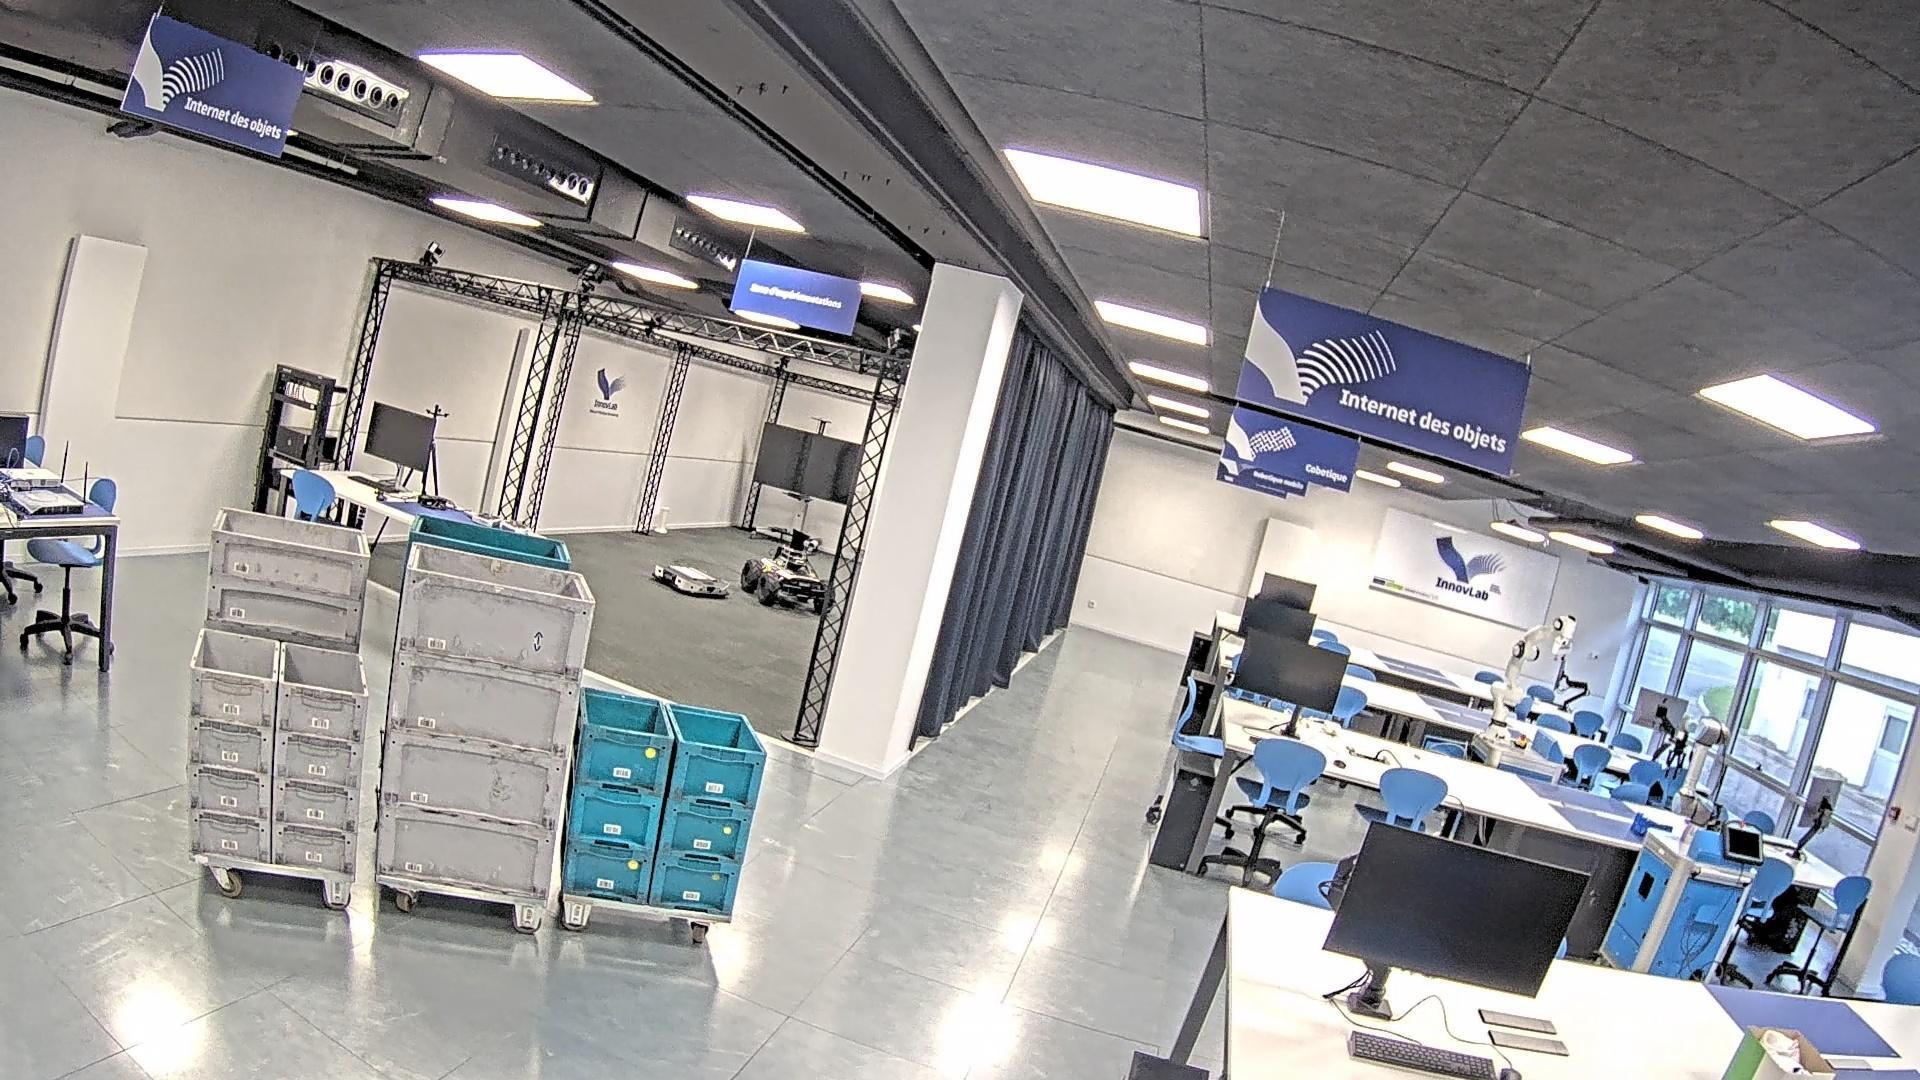Box3G: (193, 506, 377, 837)
Box4G: (371, 539, 599, 906)
Box8G: (186, 625, 371, 877)
BoxB4: (372, 510, 575, 872)
BoxB8: (559, 684, 771, 920)
